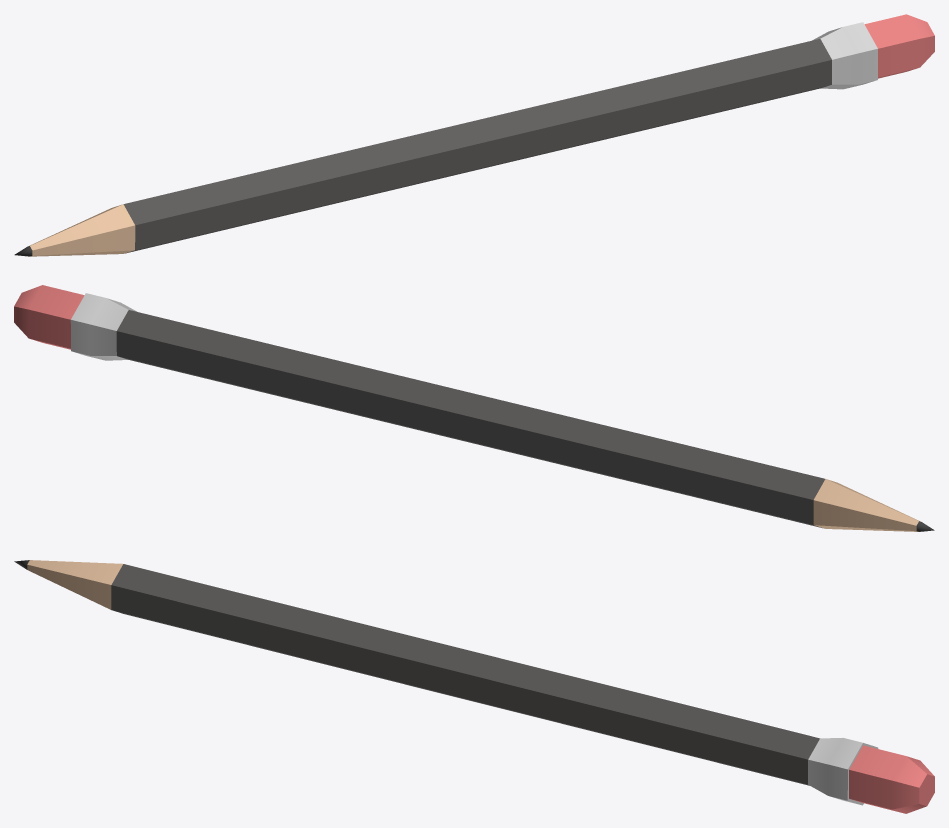
The model's file is F11_Pencil.fbx.
The picture shows the model from 3 angles, top to bottom: view 1: azimuth 30°, elevation 25°; view 2: azimuth 150°, elevation 25°; view 3: azimuth 330°, elevation 25°; orthographic projection.
Visible parts, largest first — view 1: Pencil; view 2: Pencil; view 3: Pencil.
Boxes of the visible parts, bbox=[...] form: Pencil: bbox=[14, 14, 934, 256]; Pencil: bbox=[14, 285, 934, 531]; Pencil: bbox=[14, 560, 934, 813].
Bounding box in the file's own units: 0.246 × 0.0162 × 0.014.
